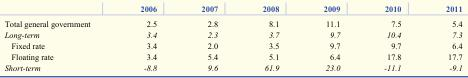table: (3, 4, 461, 71)
table column: (3, 4, 114, 71), (114, 4, 178, 71), (178, 4, 239, 71), (239, 4, 300, 71), (300, 4, 361, 71), (361, 4, 422, 71), (422, 4, 461, 71)
table column header: (3, 4, 461, 16)
table row: (3, 16, 461, 29), (3, 4, 461, 16), (3, 29, 461, 40), (3, 40, 461, 51), (3, 51, 461, 62), (3, 62, 461, 71)
